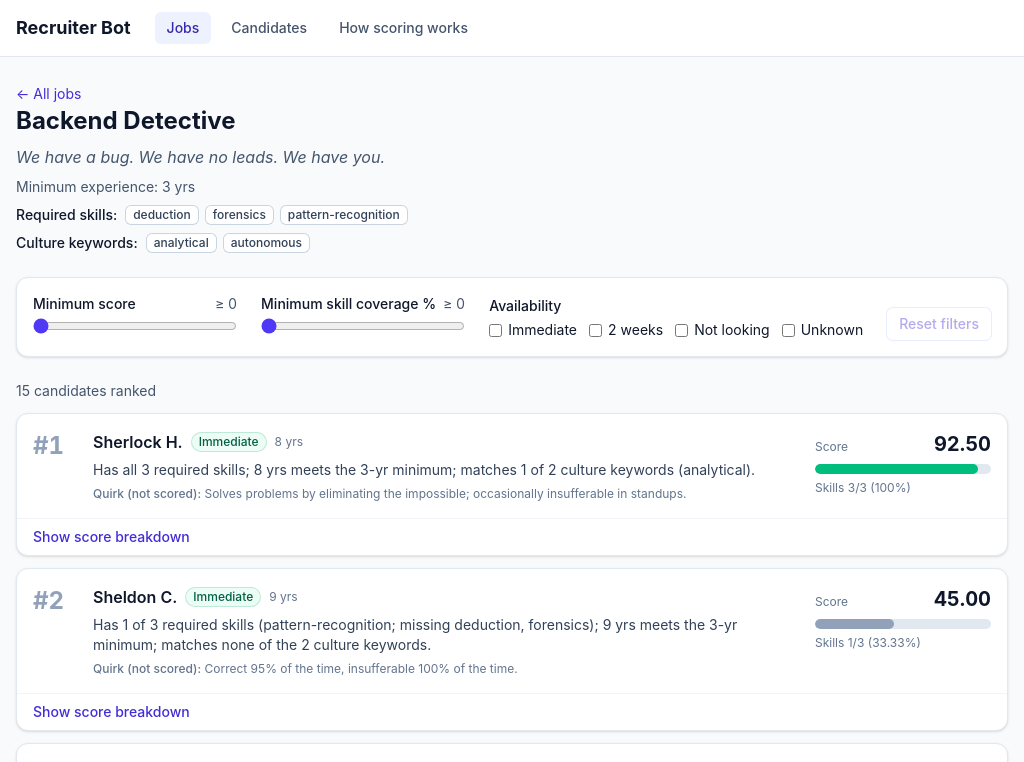
it: job matches page › writes slider changes to the URL after the user pauses
This screenshot has width=1024, height=762.
Expected: the text "15 candidates ranked" is shown, [16,382,156,399]
Set the slider labelled "Minimum score" to "50" at point(135, 326), box [33,318,237,334]
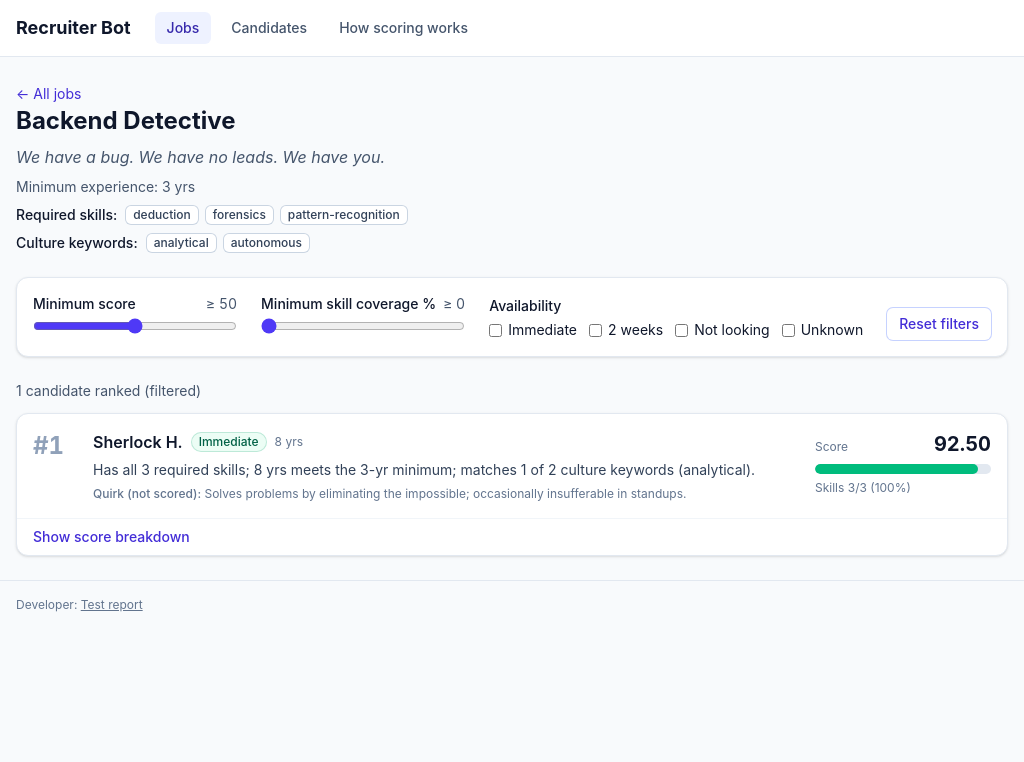
Result: the text "1 candidate ranked (filtered)" is shown at [16,382,201,399]
